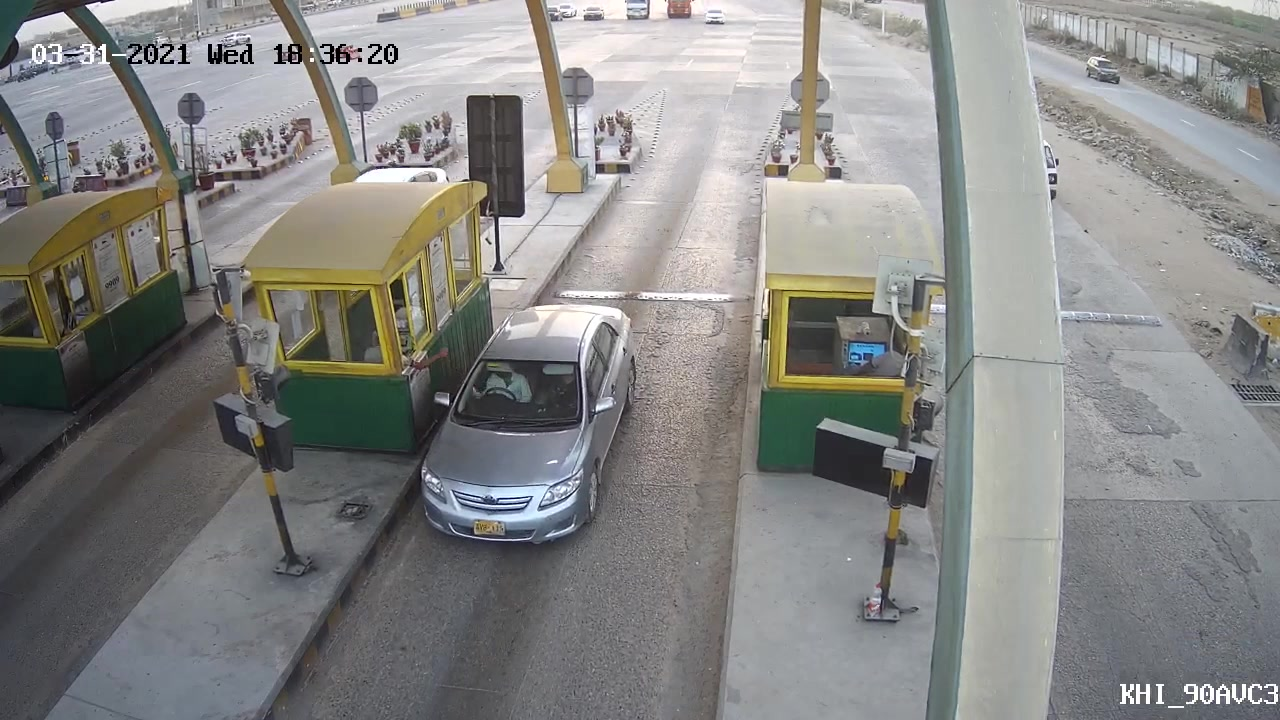F1: (417, 298, 643, 549)
